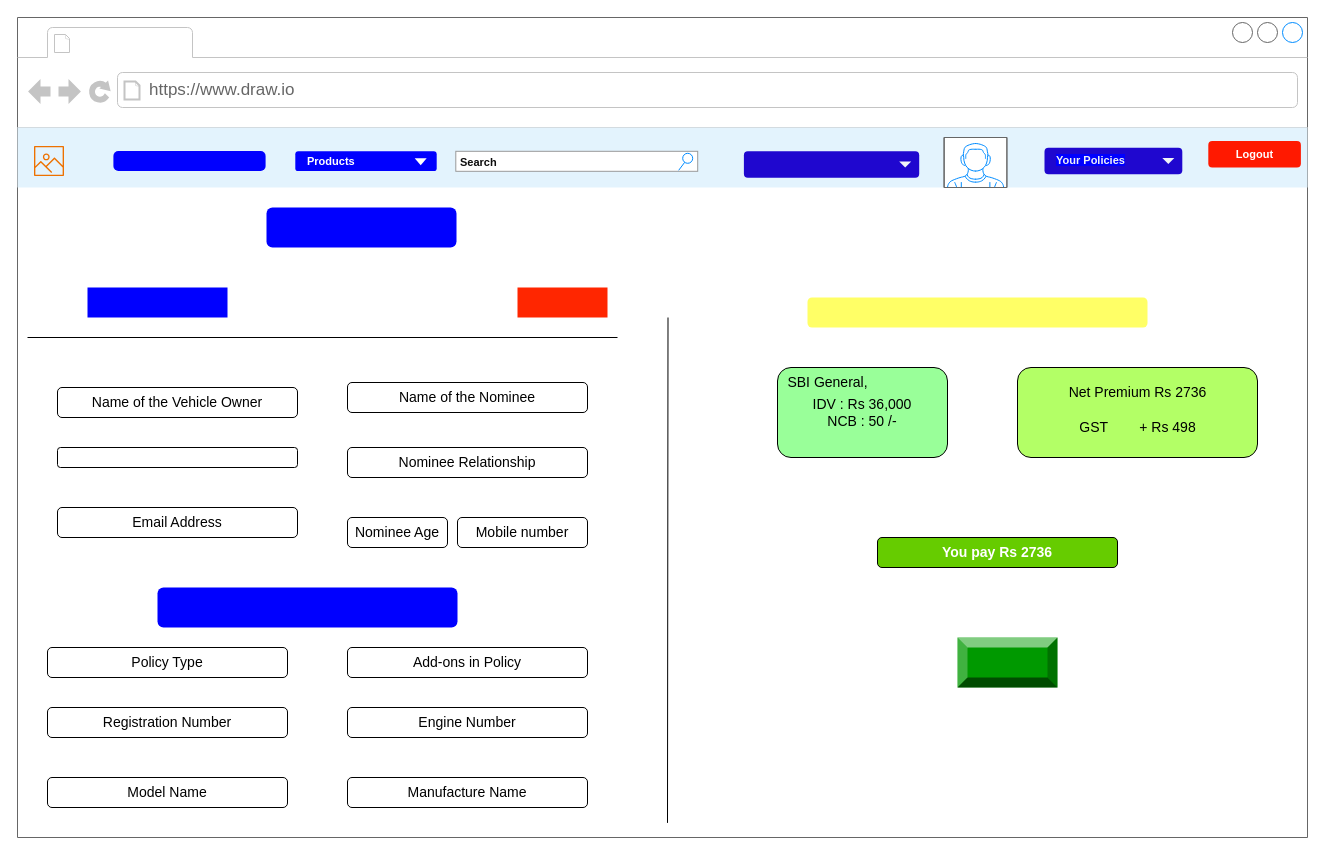
This 1325x855 diagram has some shape labels left out. Here are the shapes that lost their labels. From the top down, the centre of each, then its label:
At point (132, 42): "Page 1".
At point (189, 160): "InsureEase".
At point (831, 164): "Trending Policies".
At point (361, 227): "Summary".
At point (157, 302): "PersonalDetails".
At point (562, 302): "Edit".
At point (977, 312): "Your new policy start on 06 Dec 2021".
At point (177, 457): "Address".
At point (307, 607): "Vehicle and Policy details".
At point (1007, 662): "Pay".
